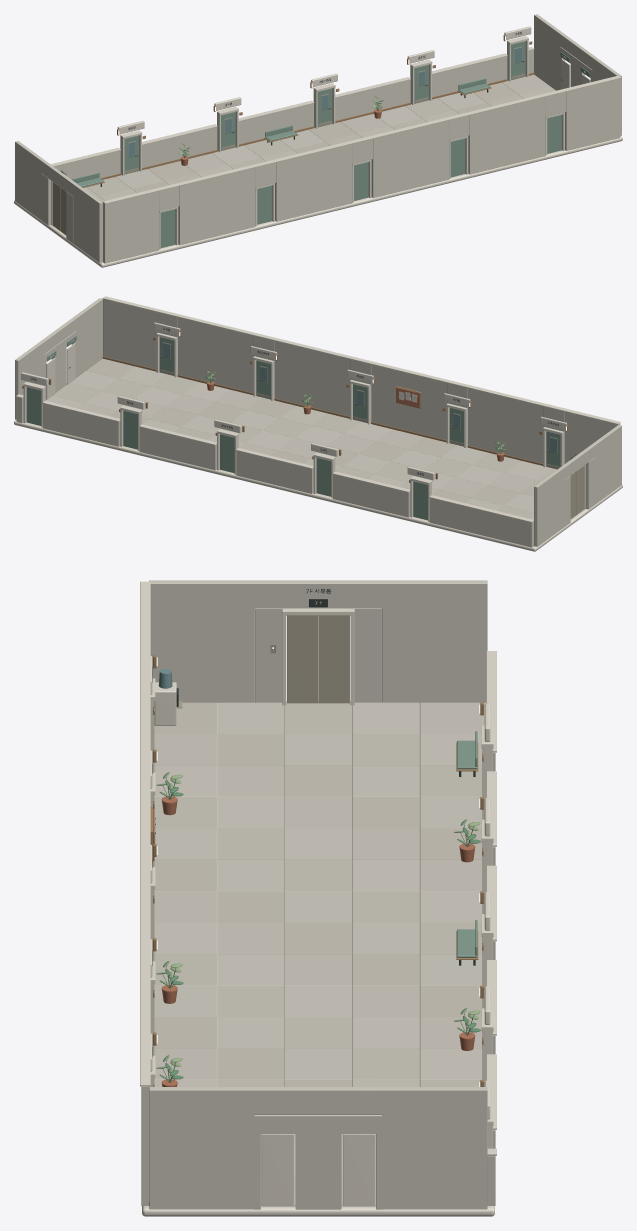
File: office_corridor.glb
3 views of the same model, one above another, from view 1: azimuth 30°, elevation 25°; view 2: azimuth 150°, elevation 25°; view 3: azimuth 270°, elevation 25° (orthographic). The views are drawn at different scales.
Visible parts, largest first — view 1: BACK_WALL__Linen plaster, END_WALLS__Linen plaster, FRONT_PARTITION__Linen plaster, DOORS_STATIC__Warm porcelain, CORRIDOR_FLOOR__Warm porcelain, CORRIDOR_FLOOR__Limestone 2, CORRIDOR_FLOOR__Limestone 0, BACK_WALL__Warm porcelain, CORRIDOR_FLOOR__Limestone 3, CORRIDOR_FLOOR__Limestone 1, CORRIDOR_FLOOR__Limestone 4, FRONT_PARTITION__Warm porcelain (+14 smaller); view 2: BACK_WALL__Linen plaster, FRONT_PARTITION__Linen plaster, END_WALLS__Linen plaster, DOORS_STATIC__Warm porcelain, CORRIDOR_FLOOR__Limestone 1, CORRIDOR_FLOOR__Limestone 3, CORRIDOR_FLOOR__Limestone 4, CORRIDOR_FLOOR__Limestone 0, CORRIDOR_FLOOR__Limestone 2, CORRIDOR_FLOOR__Warm porcelain, BACK_WALL__Warm porcelain, FRONT_PARTITION__Warm porcelain (+14 smaller); view 3: END_WALLS__Linen plaster, CORRIDOR_FLOOR__Limestone 3, CORRIDOR_FLOOR__Limestone 2, CORRIDOR_FLOOR__Limestone 4, CORRIDOR_FLOOR__Limestone 1, CORRIDOR_FLOOR__Limestone 0, END_WALLS__Warm porcelain, DOORS_STATIC__Warm porcelain, END_WALLS__Brushed champagne, BACK_WALL__Warm porcelain, CORRIDOR_FLOOR__Warm porcelain, FRONT_PARTITION__Warm porcelain (+5 smaller).
Part boxes in pixels (x1=…): BACK_WALL__Linen plaster: x1=103, y1=78, x2=620, y2=263; END_WALLS__Linen plaster: x1=15, y1=14, x2=621, y2=262; FRONT_PARTITION__Linen plaster: x1=54, y1=50, x2=533, y2=179; DOORS_STATIC__Warm porcelain: x1=117, y1=26, x2=564, y2=249; CORRIDOR_FLOOR__Warm porcelain: x1=14, y1=136, x2=622, y2=267; CORRIDOR_FLOOR__Limestone 2: x1=164, y1=74, x2=550, y2=184; CORRIDOR_FLOOR__Limestone 0: x1=132, y1=82, x2=517, y2=192; BACK_WALL__Warm porcelain: x1=102, y1=75, x2=620, y2=203; CORRIDOR_FLOOR__Limestone 3: x1=100, y1=93, x2=485, y2=200; CORRIDOR_FLOOR__Limestone 1: x1=87, y1=98, x2=453, y2=202; CORRIDOR_FLOOR__Limestone 4: x1=83, y1=87, x2=555, y2=197; FRONT_PARTITION__Warm porcelain: x1=51, y1=47, x2=534, y2=166; BACK_WALL__Linen plaster: x1=103, y1=299, x2=620, y2=463; FRONT_PARTITION__Linen plaster: x1=16, y1=397, x2=533, y2=547; END_WALLS__Linen plaster: x1=15, y1=298, x2=621, y2=546; DOORS_STATIC__Warm porcelain: x1=21, y1=322, x2=566, y2=521; CORRIDOR_FLOOR__Limestone 1: x1=53, y1=374, x2=533, y2=518; CORRIDOR_FLOOR__Limestone 3: x1=70, y1=366, x2=533, y2=512; CORRIDOR_FLOOR__Limestone 4: x1=45, y1=382, x2=553, y2=519; CORRIDOR_FLOOR__Limestone 0: x1=86, y1=358, x2=540, y2=505; CORRIDOR_FLOOR__Limestone 2: x1=78, y1=390, x2=556, y2=497; CORRIDOR_FLOOR__Warm porcelain: x1=14, y1=383, x2=622, y2=551; BACK_WALL__Warm porcelain: x1=102, y1=296, x2=620, y2=424; FRONT_PARTITION__Warm porcelain: x1=16, y1=394, x2=533, y2=522; END_WALLS__Linen plaster: x1=149, y1=580, x2=487, y2=1209; CORRIDOR_FLOOR__Limestone 3: x1=154, y1=702, x2=482, y2=1206; CORRIDOR_FLOOR__Limestone 2: x1=154, y1=702, x2=485, y2=1174; CORRIDOR_FLOOR__Limestone 4: x1=154, y1=702, x2=482, y2=1206; CORRIDOR_FLOOR__Limestone 1: x1=154, y1=702, x2=482, y2=1206; CORRIDOR_FLOOR__Limestone 0: x1=154, y1=702, x2=482, y2=1142; END_WALLS__Warm porcelain: x1=261, y1=608, x2=375, y2=1206; DOORS_STATIC__Warm porcelain: x1=149, y1=656, x2=493, y2=1148; END_WALLS__Brushed champagne: x1=270, y1=615, x2=349, y2=703; BACK_WALL__Warm porcelain: x1=140, y1=581, x2=150, y2=1086; CORRIDOR_FLOOR__Warm porcelain: x1=142, y1=701, x2=494, y2=1216; FRONT_PARTITION__Warm porcelain: x1=486, y1=651, x2=496, y2=1155.
Bounding box in the file's own units: 17.84 × 2.12 × 5.28.
